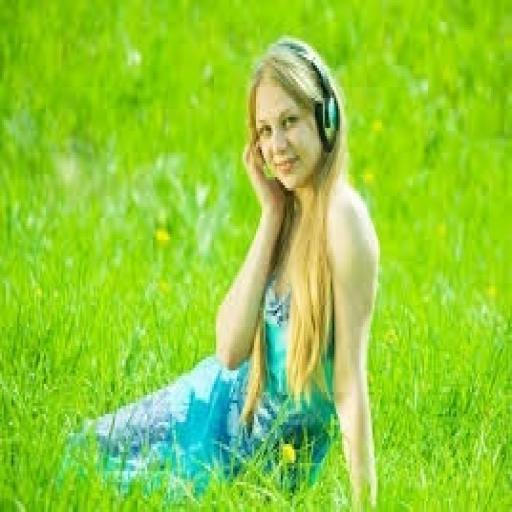listening_to_music: (55, 33, 382, 509)
